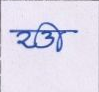i_matra: (41, 21, 64, 52)
